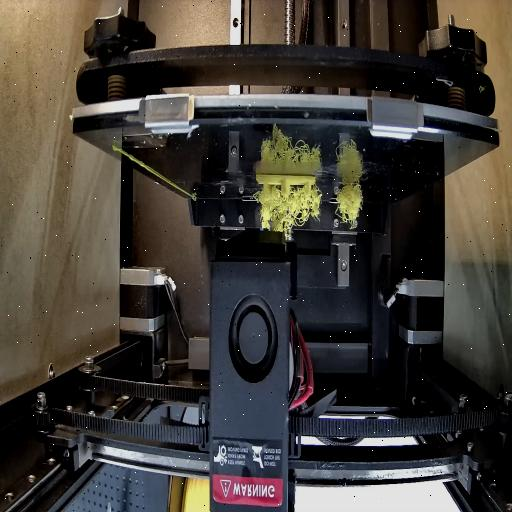spaghetti: (256, 188, 324, 238), (335, 180, 365, 228)
